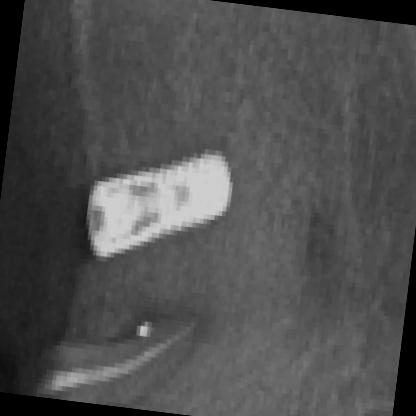ITI: (74, 103, 238, 296)
